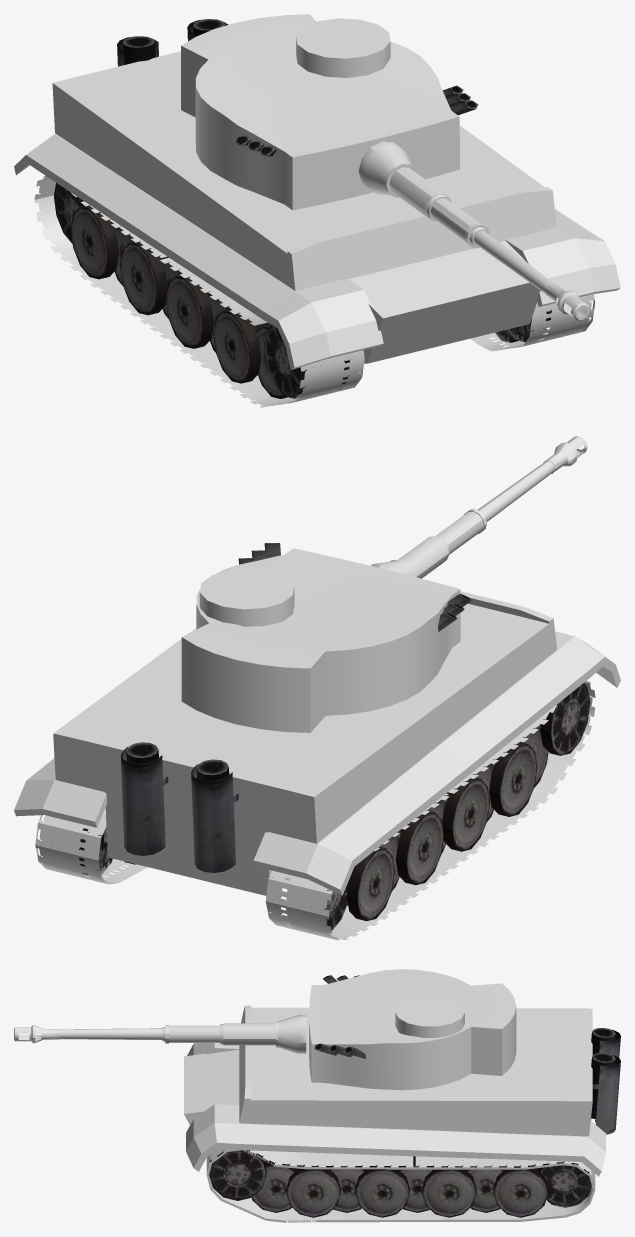
Rendered from Tiger I.fbx.
3 views of the same model, one above another, from view 1: azimuth 30°, elevation 25°; view 2: azimuth 150°, elevation 25°; view 3: azimuth 270°, elevation 25° (orthographic). The views are drawn at different scales.
Parts seen in each view (by area): view 1: Cube, Cylinder, Cube.002, Plane.001, Cube.001, Cylinder.002, Cylinder.003, Cylinder.019, Cylinder.020, Cylinder.022, Cylinder.021, Plane.002 (+7 smaller); view 2: Cube, Cylinder, Cube.002, Plane.001, Cylinder.002, Cylinder.007, Cylinder.010, Plane.002, Cube.001, Cylinder.019, Cylinder.020, Cylinder.021 (+5 smaller); view 3: Cube, Cylinder, Cube.001, Plane.002, Cylinder.002, Cylinder.003, Cylinder.017, Cylinder.012, Cylinder.009, Cylinder.011, Cylinder.008, Cylinder.007 (+10 smaller).
Part boxes in pixels (x1,y1,x2,y2): Cube: (52,21,556,363); Cylinder: (181,14,459,210); Cube.002: (14,134,383,369); Plane.001: (34,175,364,407); Cube.001: (505,209,620,306); Cylinder.002: (296,18,390,77); Cylinder.003: (358,141,451,221); Cylinder.019: (213,308,269,383); Cylinder.020: (165,275,213,348); Cylinder.022: (70,205,118,279); Cylinder.021: (120,241,167,315); Plane.002: (471,294,594,351); Cube: (53,591,557,895); Cylinder: (181,548,460,732); Cube.002: (253,631,620,895); Plane.001: (265,680,595,940); Cylinder.002: (199,569,294,626); Cylinder.007: (120,742,168,855); Cylinder.010: (191,759,238,872); Plane.002: (35,807,147,884); Cube.001: (14,758,106,827); Cylinder.019: (489,742,537,816); Cylinder.020: (442,777,489,851); Cylinder.021: (396,810,443,885); Cube: (184,1005,592,1136); Cylinder: (309,969,516,1090); Cube.001: (186,1104,605,1176); Plane.002: (206,1148,595,1222); Cylinder.002: (395,997,464,1037); Cylinder.003: (220,1015,306,1053); Cylinder.017: (209,1150,266,1200); Cylinder.012: (493,1163,548,1217); Cylinder.009: (355,1165,409,1217); Cylinder.011: (422,1160,476,1217); Cylinder.008: (286,1164,340,1217); Cylinder.007: (591,1053,620,1134).
Size of the model in its own units: 341 by 241 by 755.
